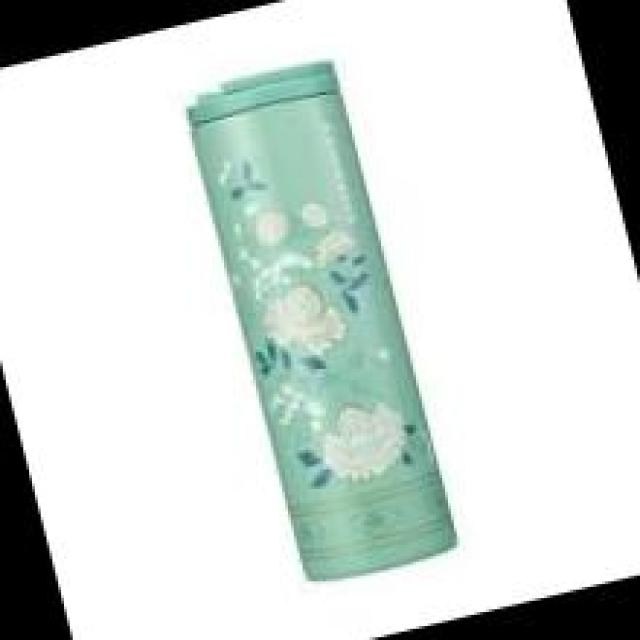bottle: (169, 45, 474, 592)
